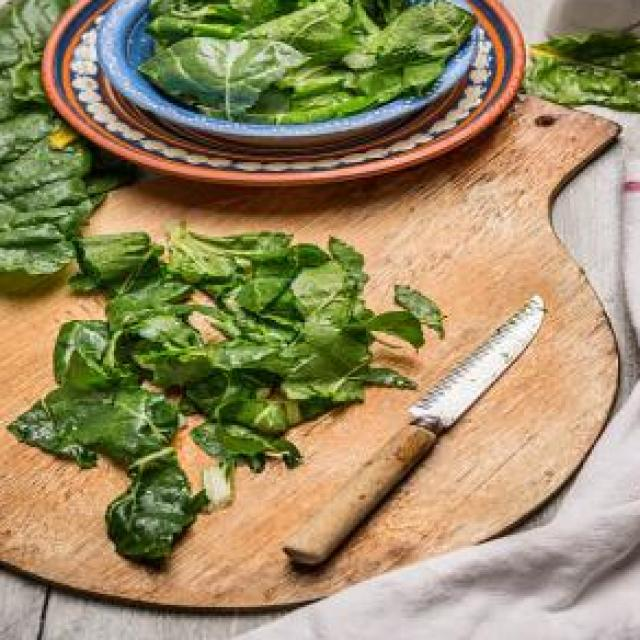knife: (282, 294, 556, 574)
